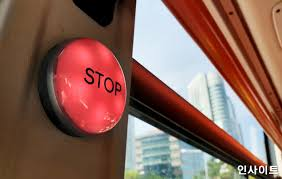bell: (39, 35, 129, 140)
